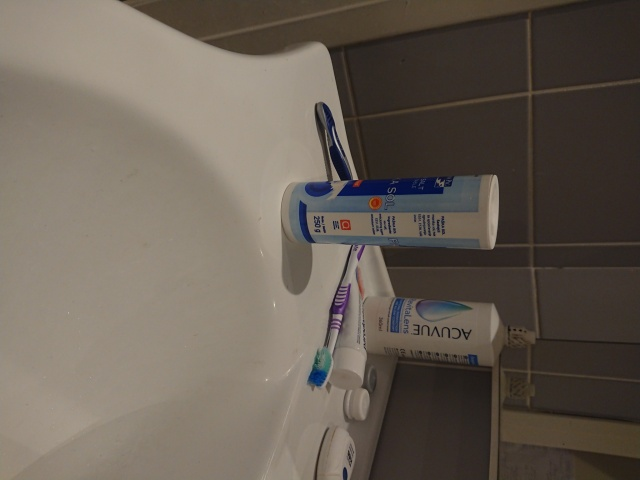Solana Pag Fine Sea Salt 250g: (279, 171, 500, 252)
